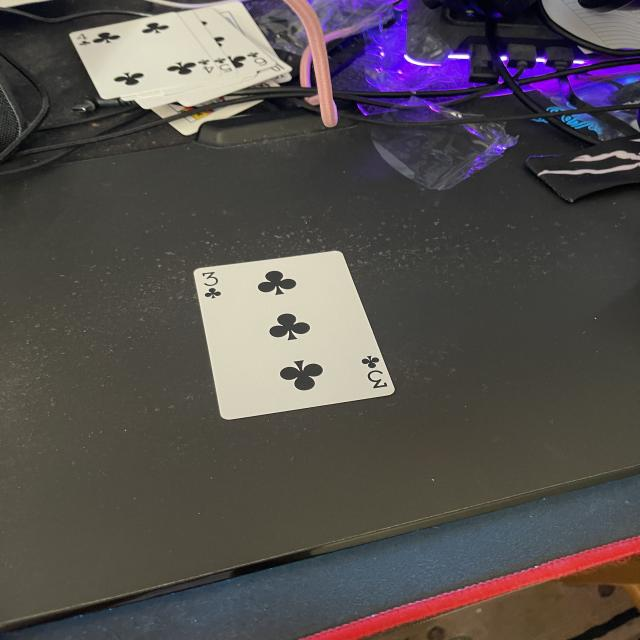3 of clubs: (193, 251, 396, 422)
4 of clubs: (70, 13, 222, 99)
